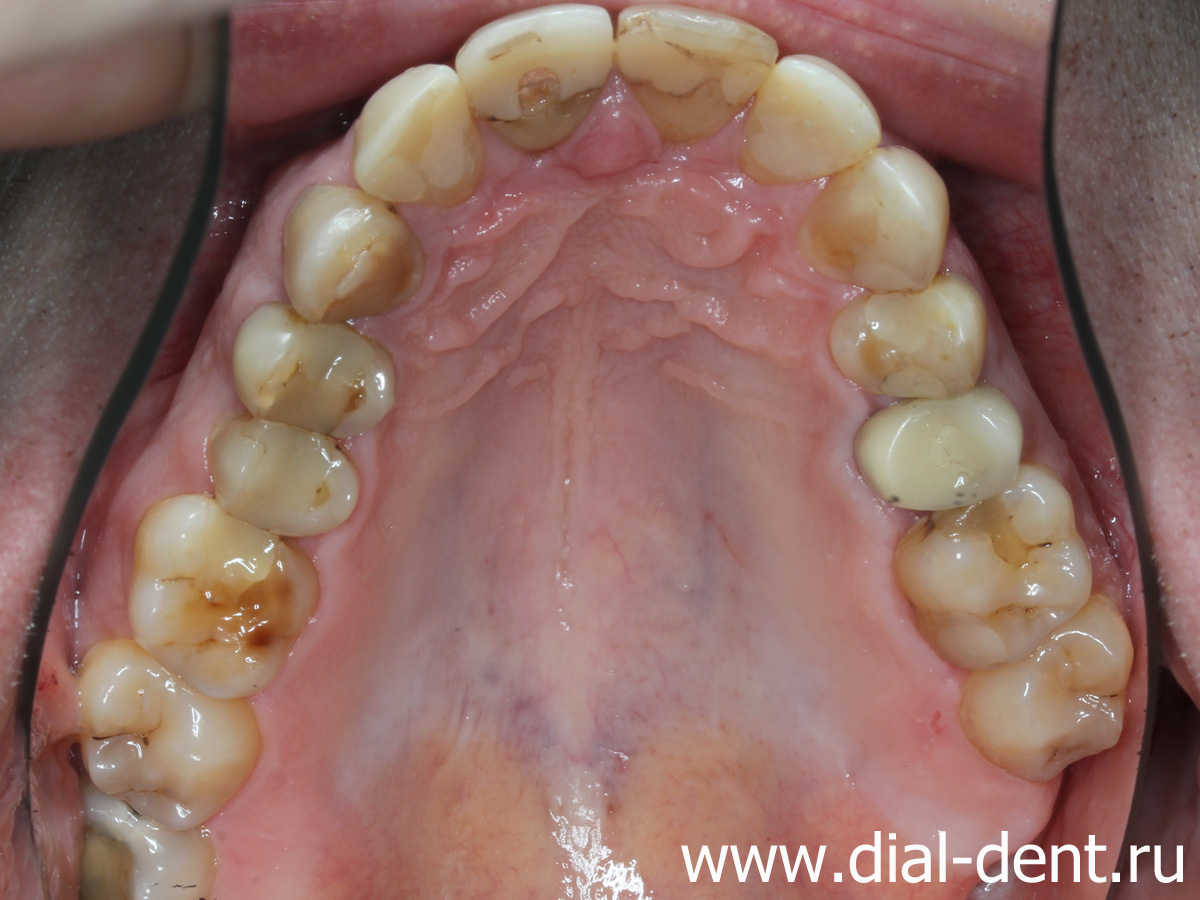UL1BC_decay: (825, 280, 983, 404)
UL1M_decay: (886, 462, 1095, 669)
UL2BC_decay: (856, 393, 1023, 508)
UL2M_decay: (964, 597, 1137, 789)
ULCI_decay: (613, 6, 771, 158)
ULC_decay: (801, 144, 949, 293)
ULLI_healthy: (741, 52, 884, 179)
UR1BC_decay: (233, 310, 397, 429)
UR1M_decay: (133, 497, 318, 702)
UR2BC_decay: (201, 413, 366, 547)
UR2M_decay: (81, 646, 262, 830)
URCI_decay: (461, 9, 614, 158)
URC_decay: (264, 188, 425, 323)
URLI_healthy: (355, 66, 487, 208)
